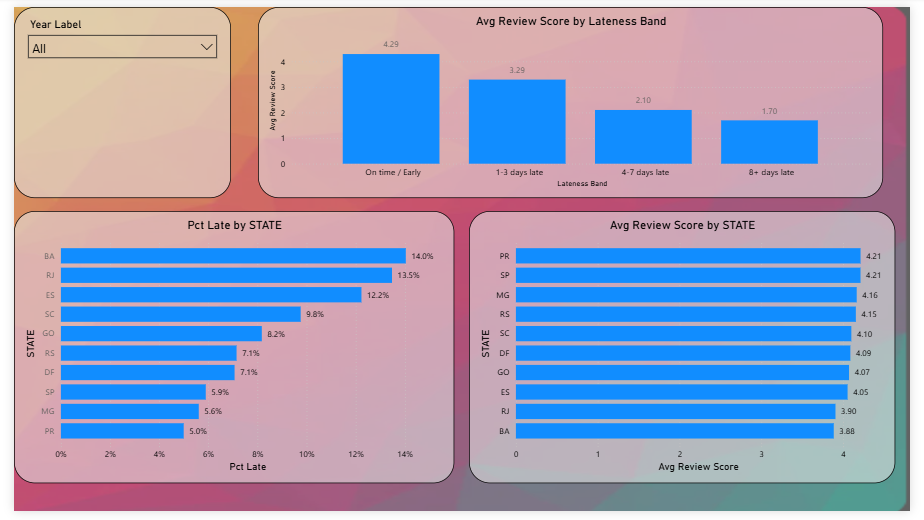

What the dashboard file says about the page in this screenshot:
{"tool":"powerbi","page":{"name":"Delivery & Satisfaction","canvas":[1280,720],"ordinal":1},"visuals":[{"type":"slicer","fields":{"Values":["DIM_DATE.Year Label"]},"box":[0,0,310,272.9],"z":0},{"type":"clusteredColumnChart","fields":{"Category":["FACT_ORDERS.Lateness Band"],"Y":["FACT_ORDERS.Avg Review Score"]},"box":[348.6,0,892.9,272.9],"z":1},{"type":"clusteredBarChart","fields":{"Category":["DIM_CUSTOMER.STATE"],"Y":["FACT_ORDERS.Pct Late"]},"box":[0,291.4,628.6,388.6],"z":2},{"type":"clusteredBarChart","fields":{"Y":["FACT_ORDERS.Avg Review Score"],"Category":["DIM_CUSTOMER.STATE"]},"box":[650,291.4,608.6,388.6],"z":3}]}

Visuals, with their boxes in screenshot pixels (x1, y1, x2, y2), scaled from the page's 1280x720 canvas onto the 924x520 screenshot:
slicer - DIM_DATE.Year Label: <region>0, 0, 224, 197</region>
clusteredColumnChart - FACT_ORDERS.Lateness Band x FACT_ORDERS.Avg Review Score: <region>252, 0, 896, 197</region>
clusteredBarChart - DIM_CUSTOMER.STATE x FACT_ORDERS.Pct Late: <region>0, 210, 454, 491</region>
clusteredBarChart - FACT_ORDERS.Avg Review Score x DIM_CUSTOMER.STATE: <region>469, 210, 909, 491</region>
